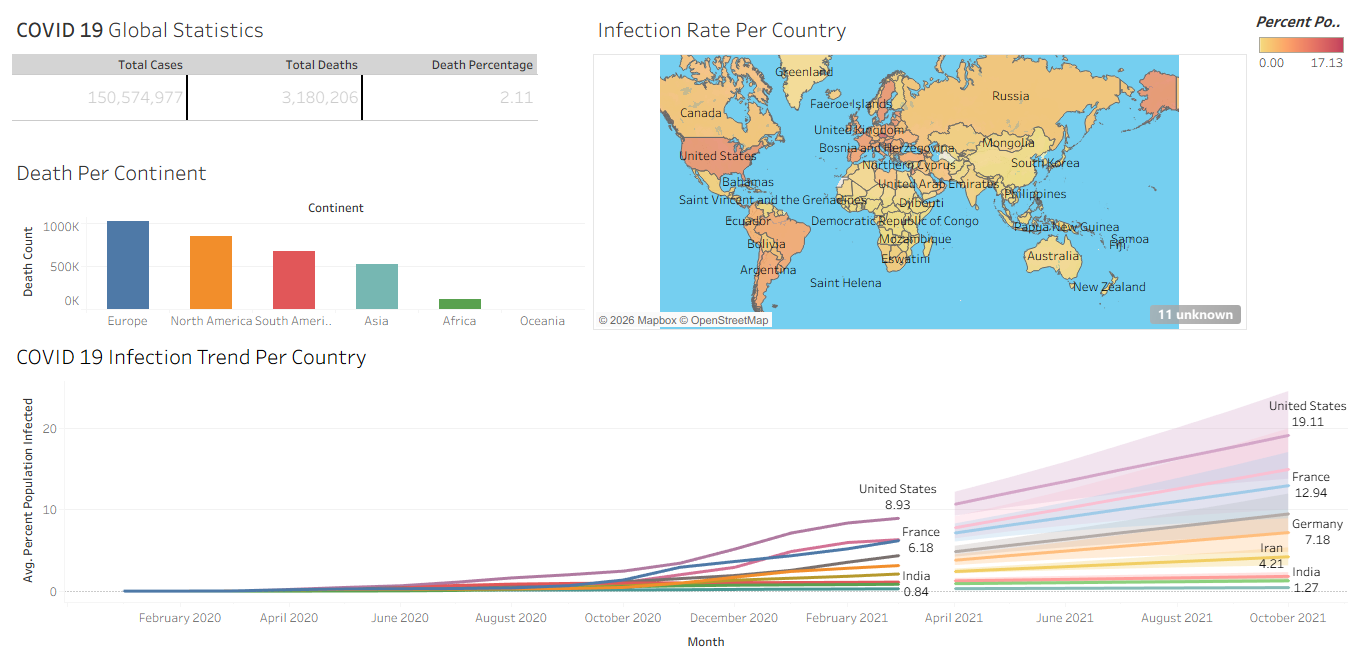

What the dashboard file says about the page in this screenshot:
{"tool":"tableau","page":{"name":"Dashboard 1","canvas":[1000,1000],"units":"permille","ordinal":0},"visuals":[{"type":"worksheet","title":"Sheet 1","mark":"Automatic","box":[5.9,11.9,435.3,162.7]},{"type":"worksheet","title":"Sheet 3","mark":"Automatic","box":[441.2,11.9,435.3,488.1]},{"type":"legend","title":"Sheet 3","param":"[federated.10qs7200kv47gn1431hfk1b8reid].[sum:PercentPopulationInfected:qk]","box":[876.5,11.9,117.7,103]},{"type":"worksheet","title":"Sheet 2","mark":"Automatic","rows":["TotalDeathCount"],"cols":["location"],"box":[5.9,174.6,435.3,325.4]},{"type":"legend","title":"Sheet 2","param":"[federated.0e0m8w700c2fb10zmor2w0ar360v].[none:location:nk]","box":[358.5,182.3,72,161.6]},{"type":"worksheet","title":"Sheet 4","mark":"Automatic","rows":["PercentPopulationInfected"],"cols":["date"],"box":[5.9,500,870.6,488.1]}]}

Visuals, with their boxes on the dashboard's canvas, which has no fixed pixel size, in thousandths of its width and height (x1, y1, x2, y2). These are canvas units, not pixel positions in the 1356x649 screenshot, which may show the page scaled, cropped or inside an application window:
"Sheet 1" worksheet: <bbox>6, 12, 441, 175</bbox>
"Sheet 3" worksheet: <bbox>441, 12, 876, 500</bbox>
"Sheet 3" legend: <bbox>876, 12, 994, 115</bbox>
"Sheet 2" worksheet: <bbox>6, 175, 441, 500</bbox>
"Sheet 2" legend: <bbox>358, 182, 430, 344</bbox>
"Sheet 4" worksheet: <bbox>6, 500, 876, 988</bbox>
